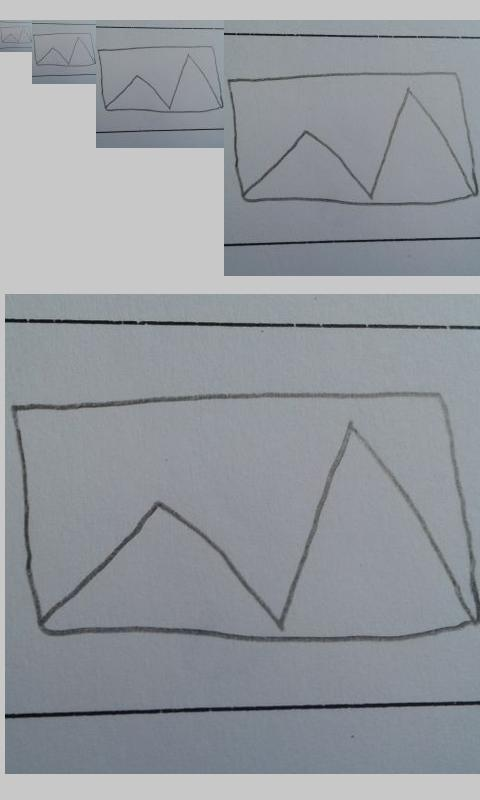image_view: (15, 387, 476, 647), (228, 68, 478, 208), (97, 45, 224, 115), (33, 32, 96, 68), (1, 25, 32, 45)
